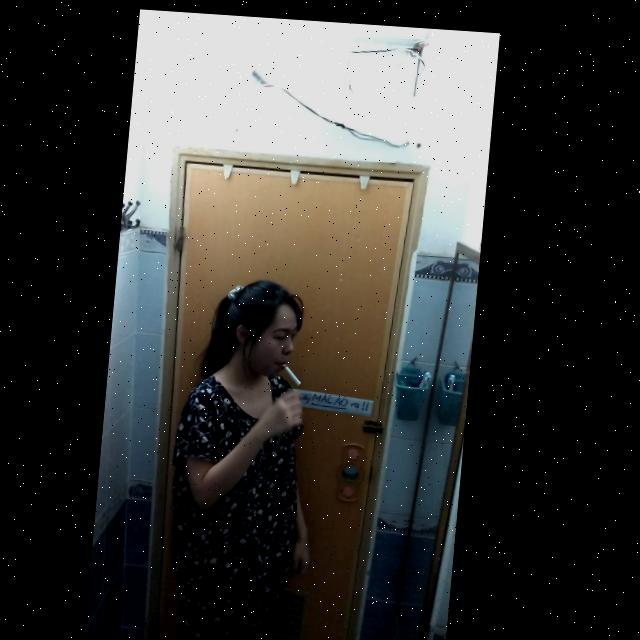cigarette: (288, 360, 309, 382)
